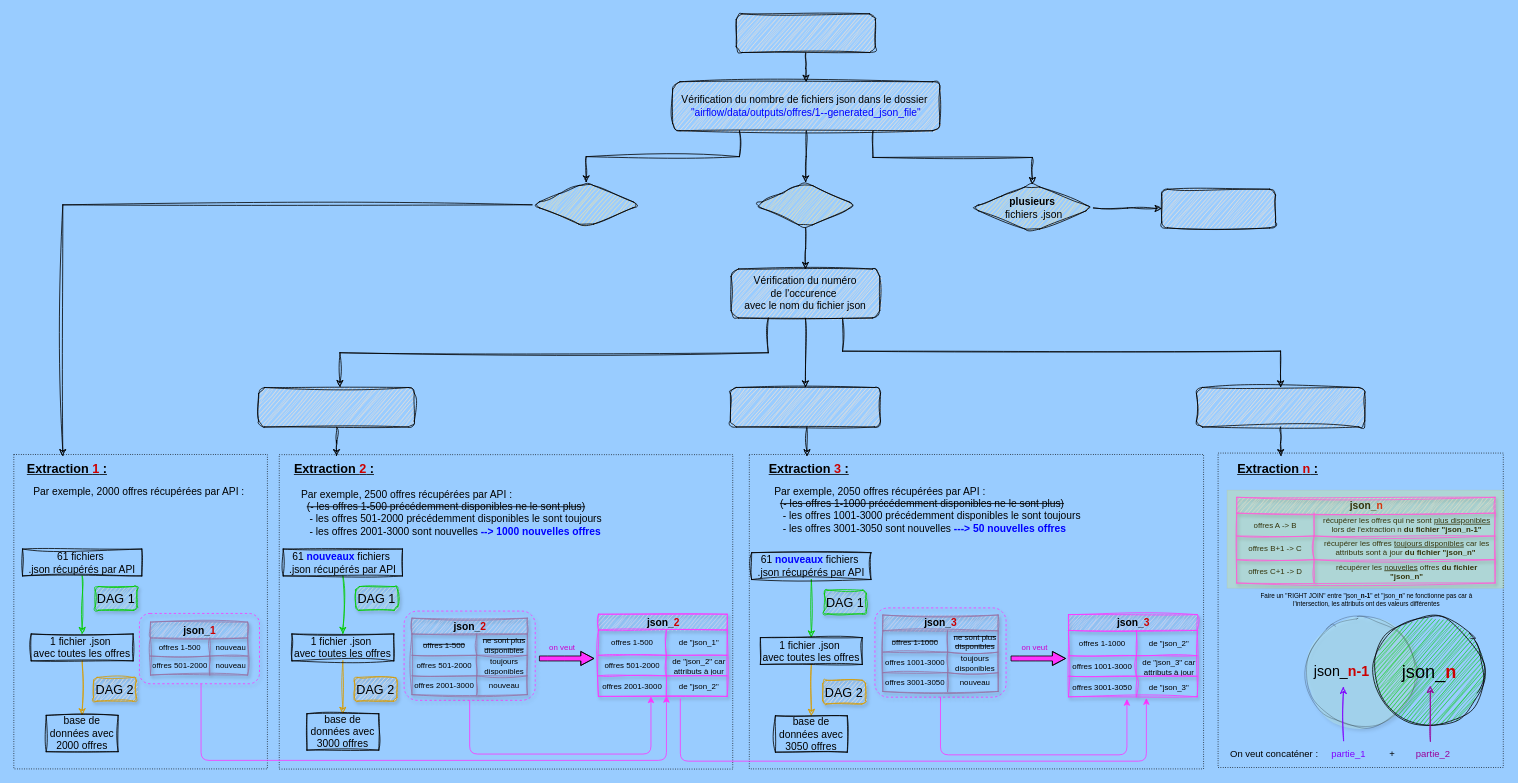
Some shapes in this 1518 by 783 pixel diagram are drawn without their labels. Each missing label, with the centre of its shape:
0 fichier .json: pixel 585 204
1 fichier .json: pixel 805 205
Fin du workflow: pixel 1218 208
Lancement du workflow: pixel 805 33
Le nom du json contient " extraction_occurence_ 1 .json ": pixel 336 407
Le nom du json contient " extraction_occurence_ 2 .json ": pixel 805 407
Le nom du json contient " extraction_occurence_ n-1 .json ": pixel 1280 407
